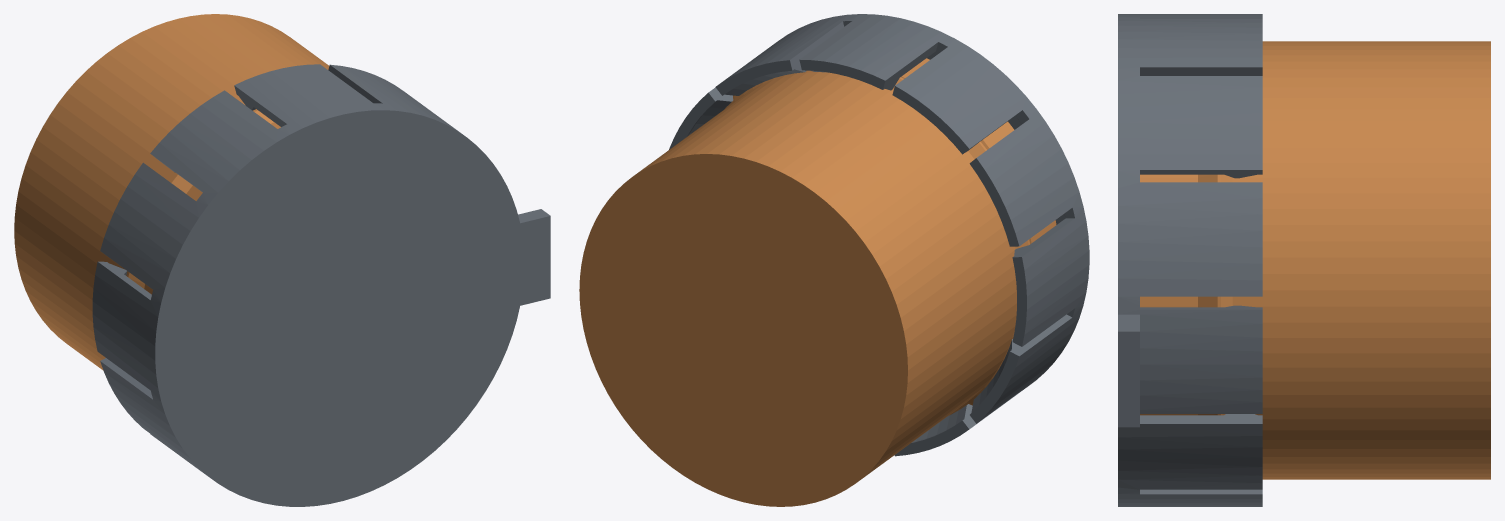
3 views of the same model, side by side, from view 1: azimuth 30°, elevation 25°; view 2: azimuth 150°, elevation 25°; view 3: azimuth 270°, elevation 25° (orthographic). The views are drawn at different scales.
Parts seen in each view (by area): view 1: couvercle, pot; view 2: pot, couvercle; view 3: pot, couvercle.
Boxes of the visible parts, left/top/right/bottom form: couvercle: left=92, top=64, right=550, bottom=506; pot: left=14, top=14, right=329, bottom=370; pot: left=579, top=58, right=1056, bottom=506; couvercle: left=669, top=14, right=1089, bottom=456; pot: left=1140, top=41, right=1490, bottom=479; couvercle: left=1118, top=14, right=1262, bottom=506.
Size of the model in its own units: 60.18 by 56.19 by 42.5.
